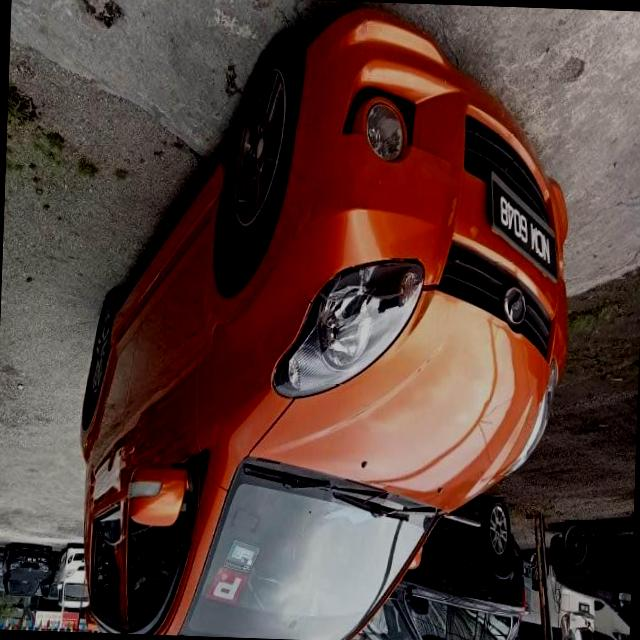PeroduaMyvi: (72, 0, 580, 640)
